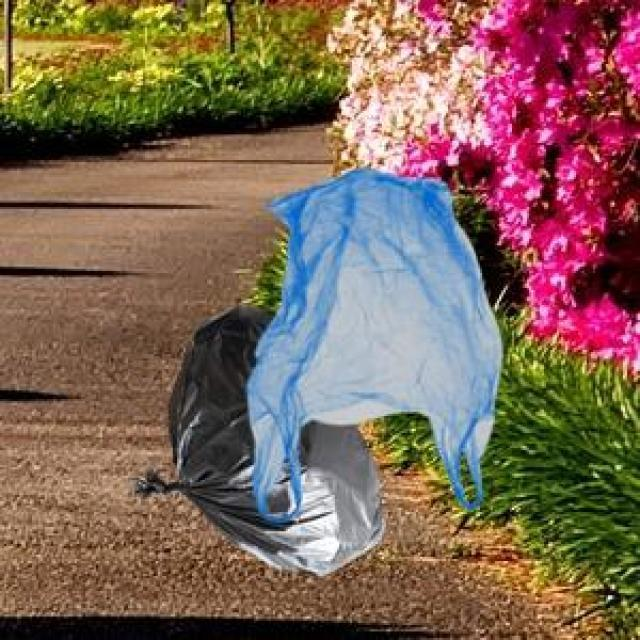miscellaneous trash: (128, 301, 382, 572)
